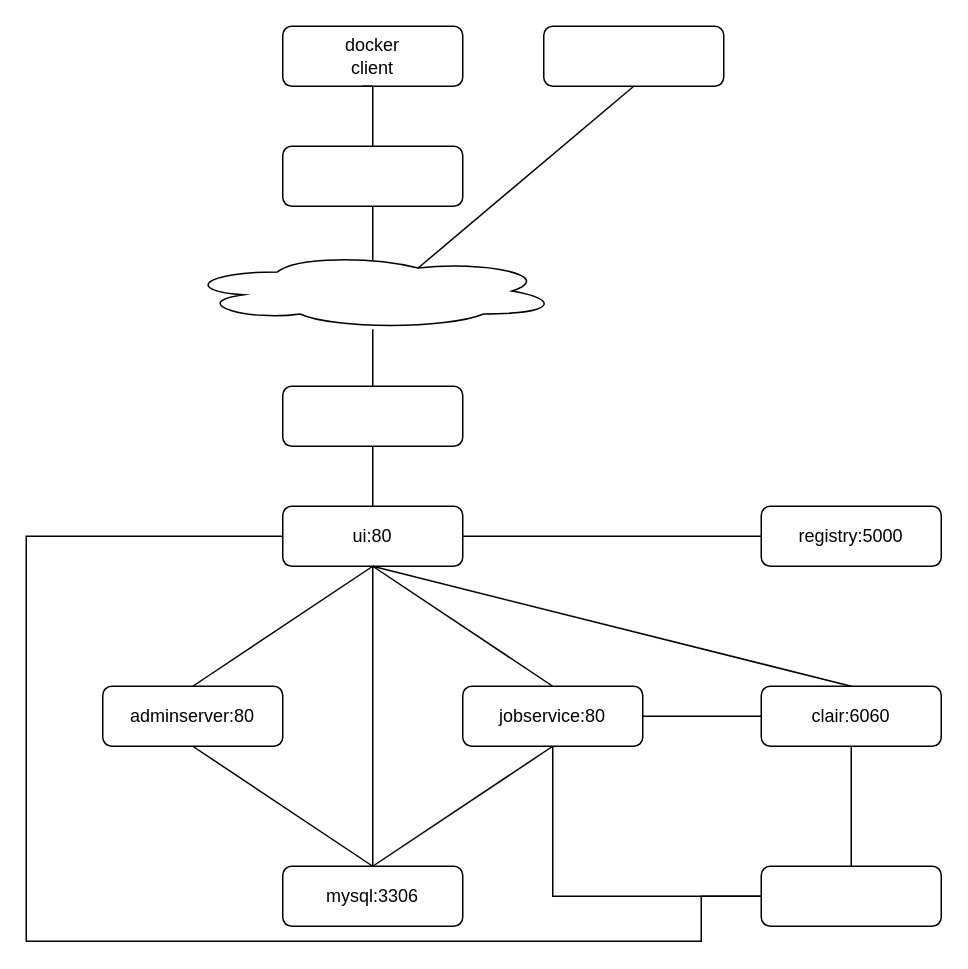
The diagram is 968 pixels wide and 969 high, and some of its shapes have lost their labels. The centre of each missing label's shape, as x and y in pixels:
"docker engine:2376" belongs at pixel 372 175.
"nginx:443" belongs at pixel 372 415.
"postgres:5432" belongs at pixel 850 895.
"web browser" belongs at pixel 633 55.
